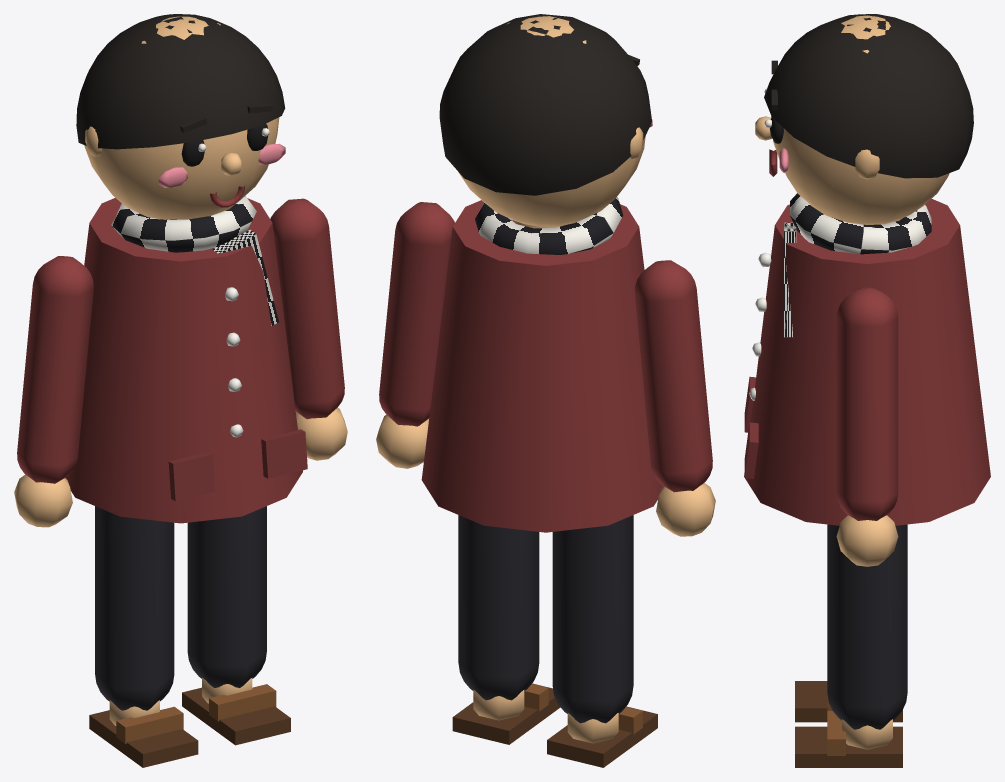
Rendered from nguoi_nam_2.glb.
The picture shows the model from 3 angles, left to right: view 1: azimuth 30°, elevation 25°; view 2: azimuth 150°, elevation 25°; view 3: azimuth 270°, elevation 25°; orthographic projection.
Parts seen in each view (by area): view 1: Body, Head, LegL, LegR, ArmL, ArmR; view 2: Body, Head, LegL, LegR, ArmL, ArmR; view 3: Body, Head, LegR, ArmR, LegL.
Boxes of the visible parts, bbox=[...] form: Body: bbox=[65, 196, 307, 523]; Head: bbox=[76, 14, 285, 219]; LegL: bbox=[89, 506, 198, 767]; LegR: bbox=[182, 506, 290, 745]; ArmL: bbox=[14, 256, 93, 527]; ArmR: bbox=[270, 198, 347, 460]; Body: bbox=[421, 197, 663, 532]; Head: bbox=[439, 14, 652, 226]; LegL: bbox=[547, 515, 657, 767]; LegR: bbox=[452, 515, 560, 744]; ArmL: bbox=[635, 260, 715, 536]; ArmR: bbox=[376, 202, 454, 468]; Body: bbox=[744, 193, 990, 525]; Head: bbox=[755, 14, 973, 224]; LegR: bbox=[795, 524, 907, 767]; ArmR: bbox=[836, 287, 898, 566]; LegL: bbox=[795, 681, 902, 722].
Size of the model in its own units: 0.2477 by 0.5063 by 0.16.
14 materials, 1 textured.
